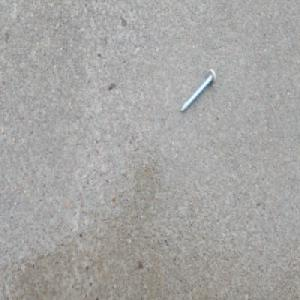Nail: (179, 66, 216, 115)
